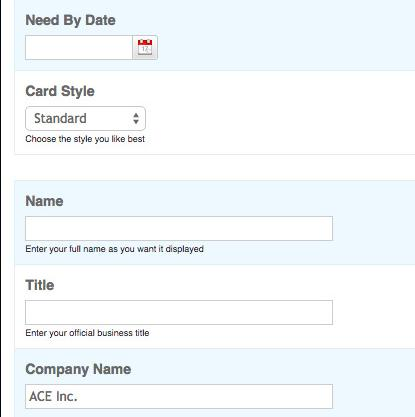field: (22, 381, 335, 412), (23, 296, 336, 326), (23, 213, 337, 242), (22, 32, 161, 63), (23, 102, 146, 132)
field_with_label: (20, 361, 338, 413), (19, 194, 338, 244), (20, 278, 338, 328), (20, 11, 163, 64), (21, 82, 148, 133)
